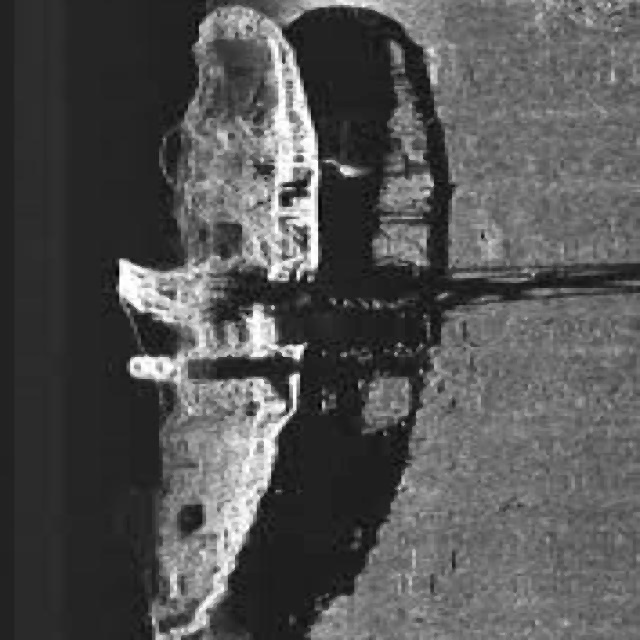Ship: (93, 0, 346, 640)
